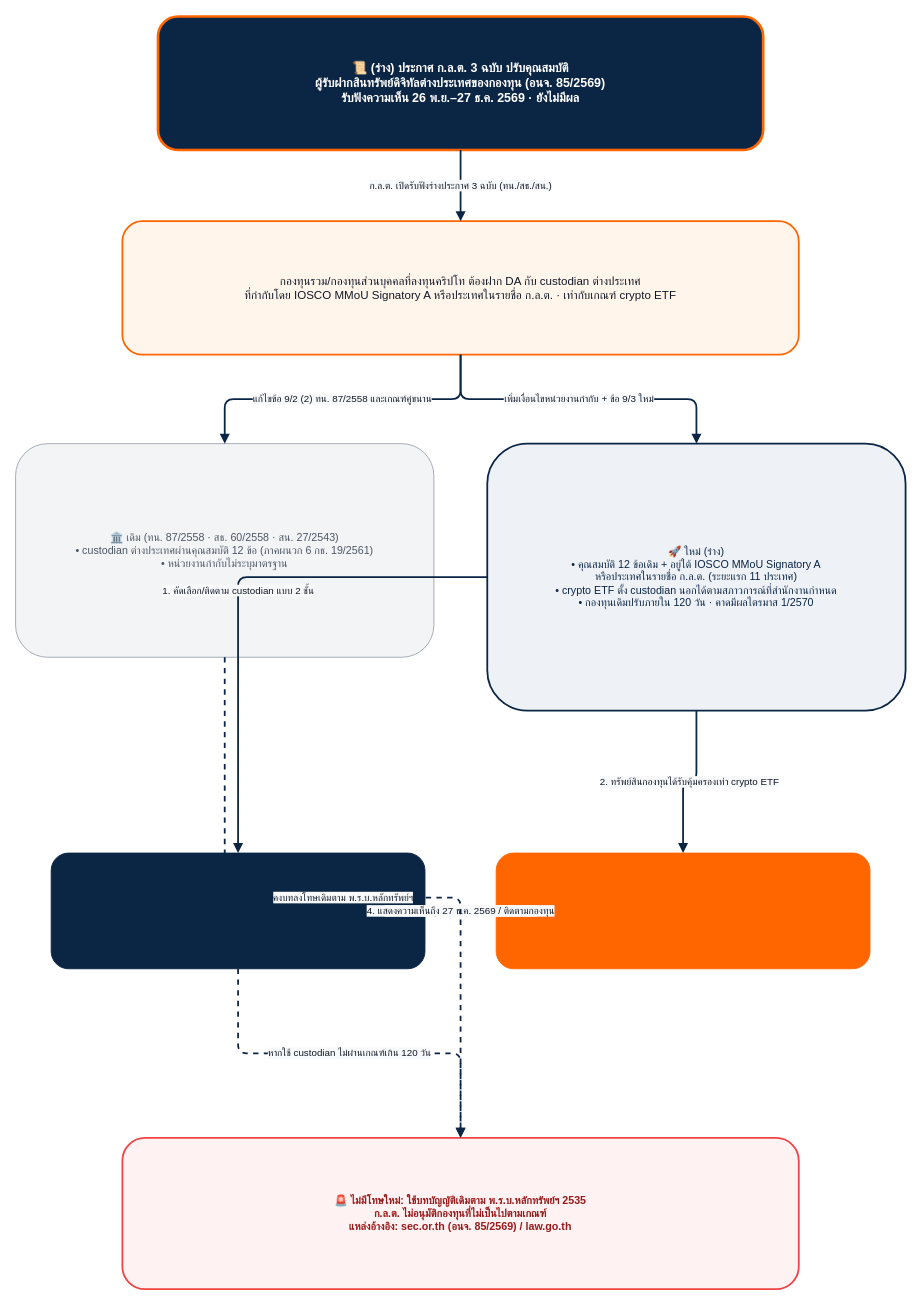
This 922x1306 diagram has some shape labels left out. The shapes that lost their labels are listed below. From the top down, each one's centre as x and y in pixels, then its label:
At (x=237, y=910): "🏢 บลจ. / ผู้ดูแลผลประโยชน์ / ผู้รับฝากทรัพย์สิน + DA custodian ต่างประเทศ".
At (x=682, y=910): "👤 ผู้ลงทุนกองทุนรวม/กองทุนส่วนบุคคลที่ลงทุนคริปโท".
